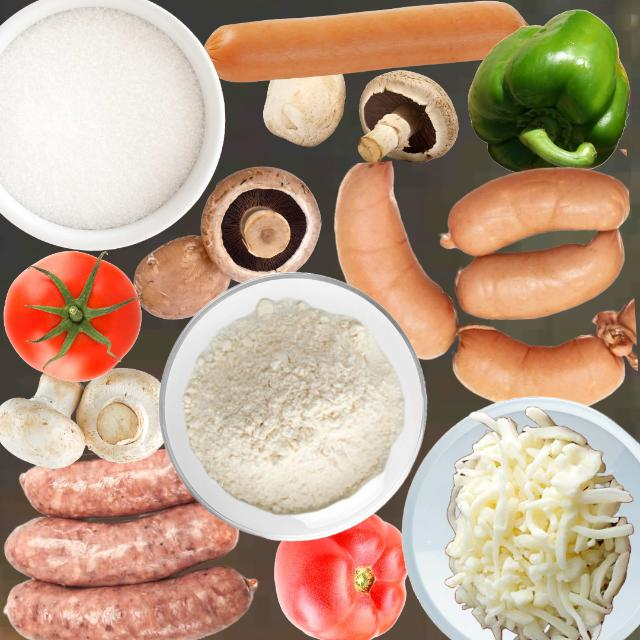Flour: (183, 295, 404, 513)
Sugar: (0, 5, 205, 229)
